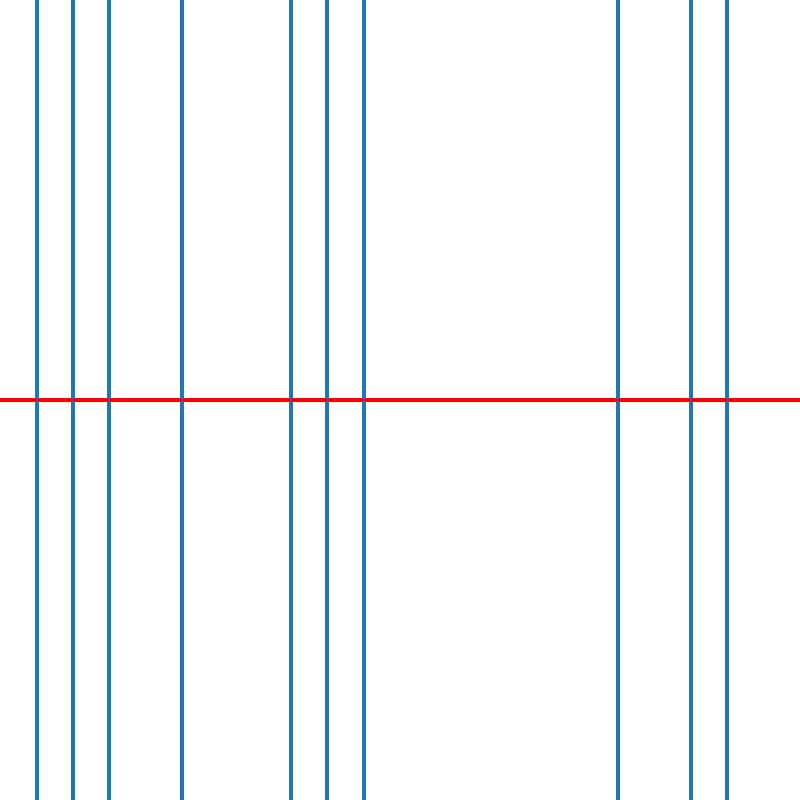root: (32, 396, 40, 404), (614, 396, 621, 404), (105, 396, 112, 404), (360, 396, 367, 404), (687, 396, 694, 404), (323, 396, 330, 404), (69, 396, 76, 404), (287, 396, 294, 404), (178, 396, 185, 404), (723, 396, 730, 404)
